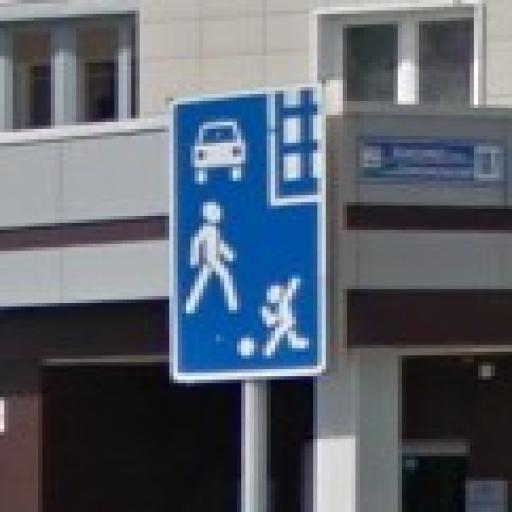traffic_sign: (166, 81, 331, 388)
